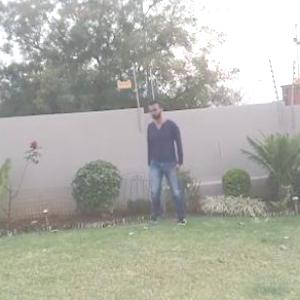follow: (147, 100, 188, 228)
